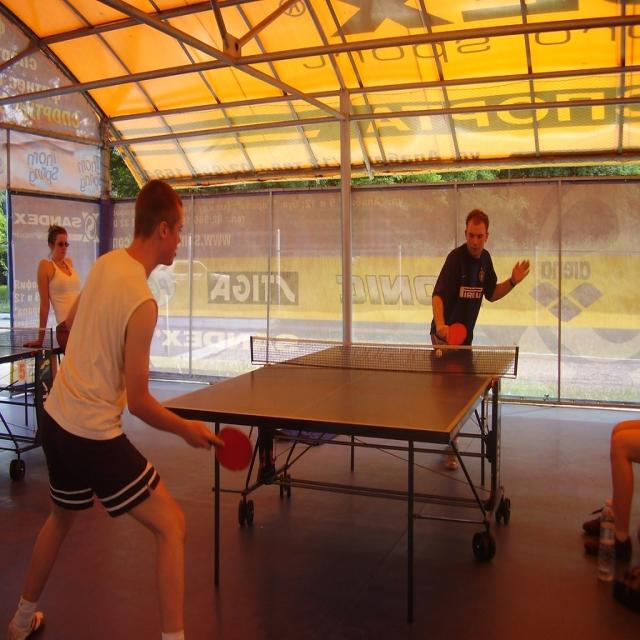TT Net: (247, 328, 523, 382), (0, 326, 55, 353)
TT Racket: (204, 423, 261, 476), (443, 320, 474, 349)
TT Table: (152, 319, 516, 440), (0, 314, 77, 360)
